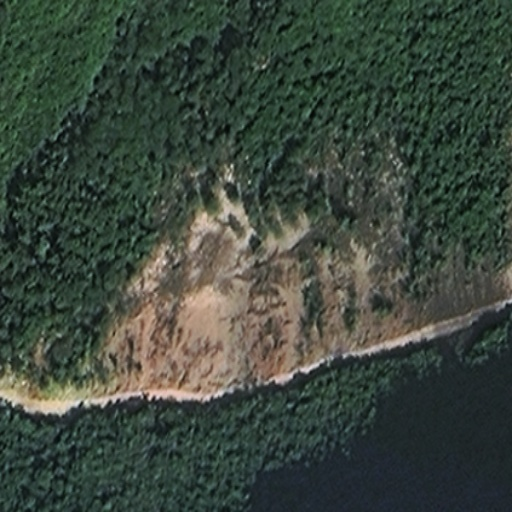landslide: (96, 167, 432, 396)
